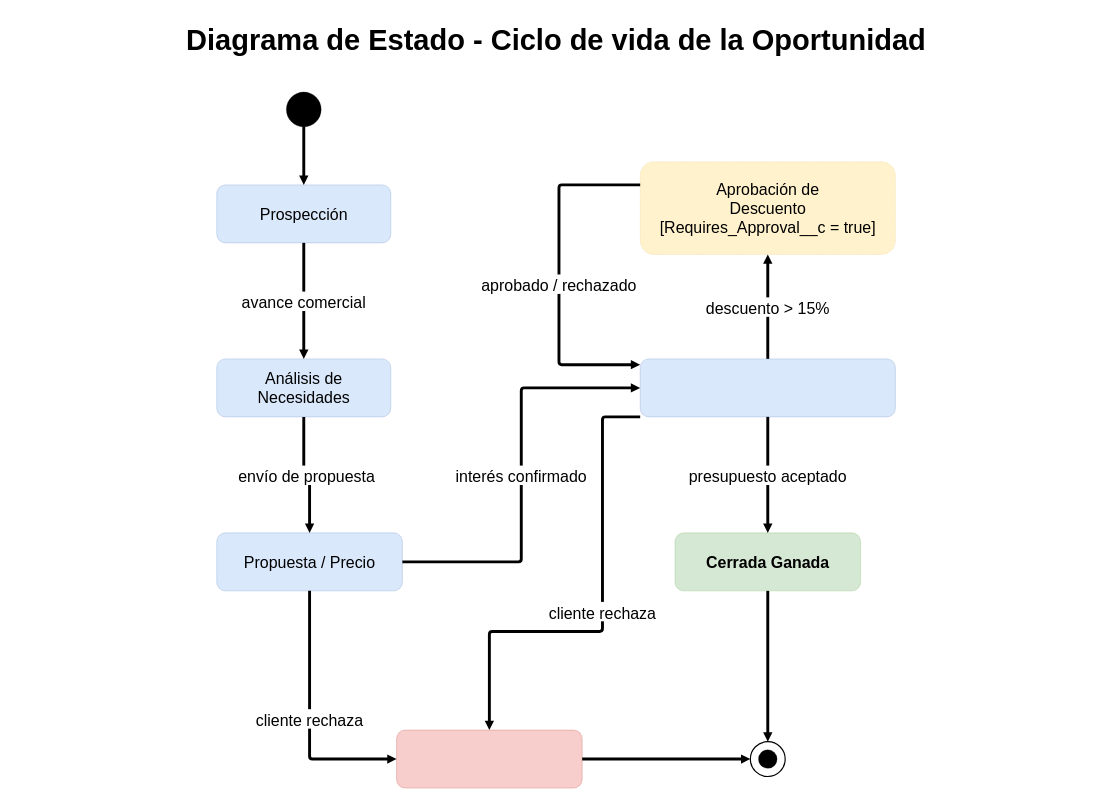
Some shapes in this 1112 by 793 pixel diagram are drawn without their labels. Each missing label, with the centre of its shape:
"Cerrada Perdida" belongs at [489,759].
"Negociación / Revisión" belongs at [767,388].
